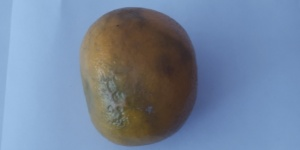BAD: (81, 7, 200, 148)
